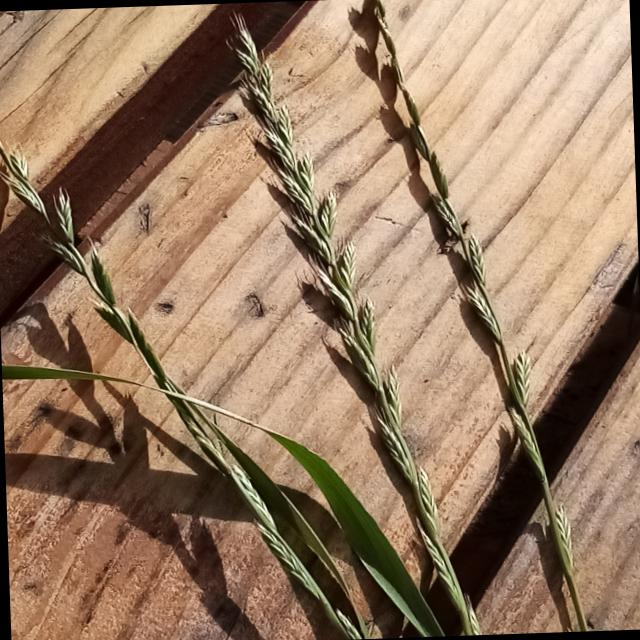Lolium: (0, 120, 360, 640), (220, 16, 464, 612), (356, 0, 576, 576)
